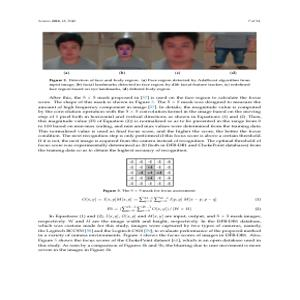image: (37, 32, 255, 69)
table: (126, 157, 175, 187)
text: (33, 77, 263, 153), (38, 197, 261, 250)
